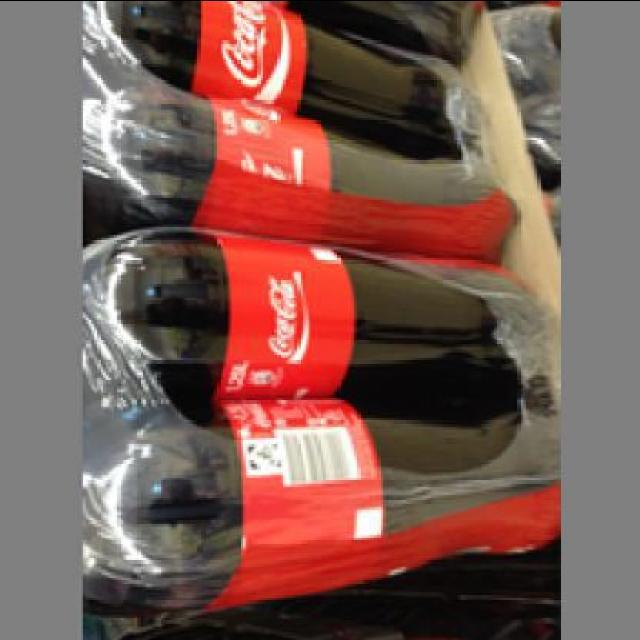Coke: (83, 400, 554, 614), (80, 228, 540, 406), (83, 103, 514, 263), (83, 3, 460, 128)
